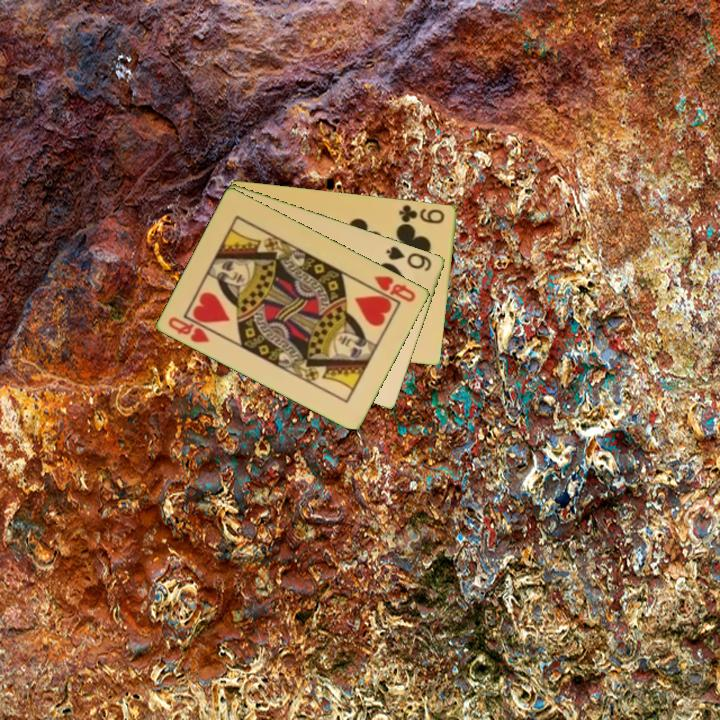6s: (383, 242, 435, 274)
9c: (395, 201, 448, 226)
Qh: (371, 272, 419, 305), (165, 313, 213, 346)
